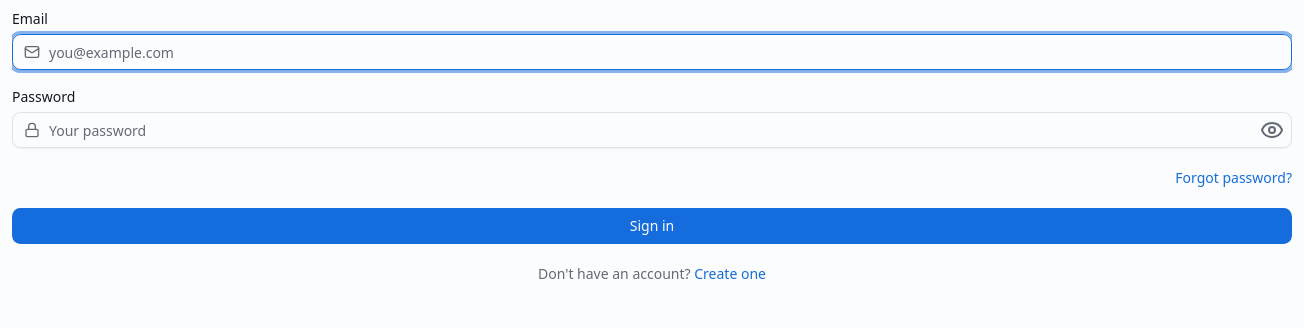
Test: LoginForm › blocks a malformed email before the network round trip
In the field labelled "Email": point(652, 52) [12,34,1292,70], type "not-an-email"
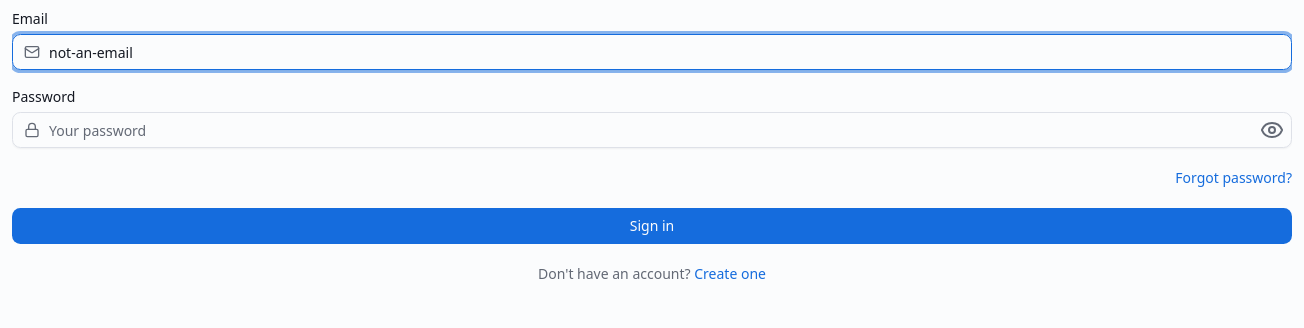
In the password field labelled "Password": point(652, 130) [12,112,1292,148], type "DemoPass123!"
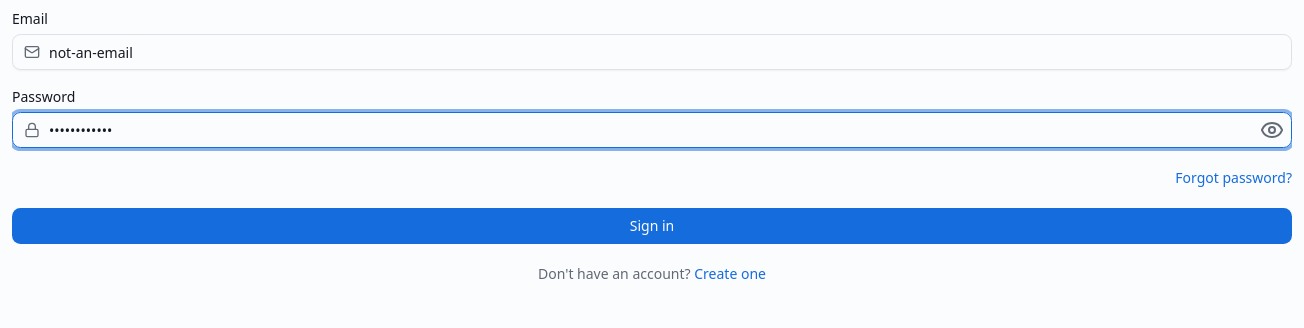
Click the button "Sign in": point(652, 226) [12,208,1292,244]
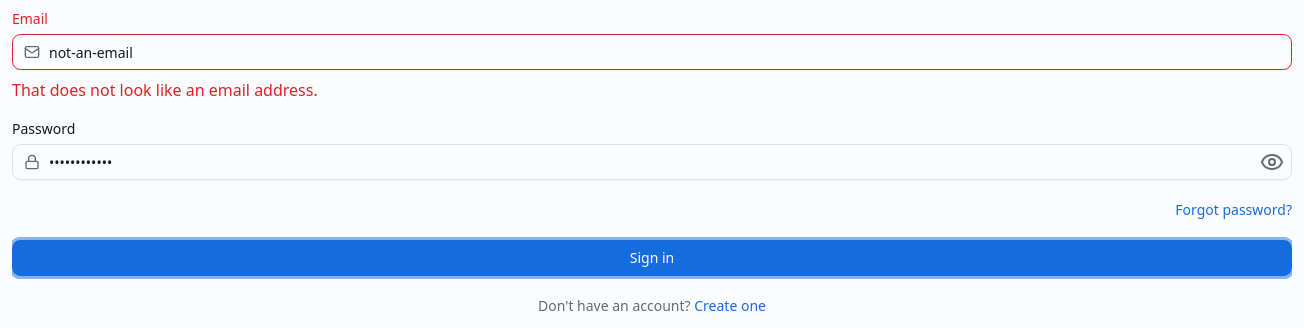
Expected: the text "That does not look like an email address." is shown, [12,79,318,101]
